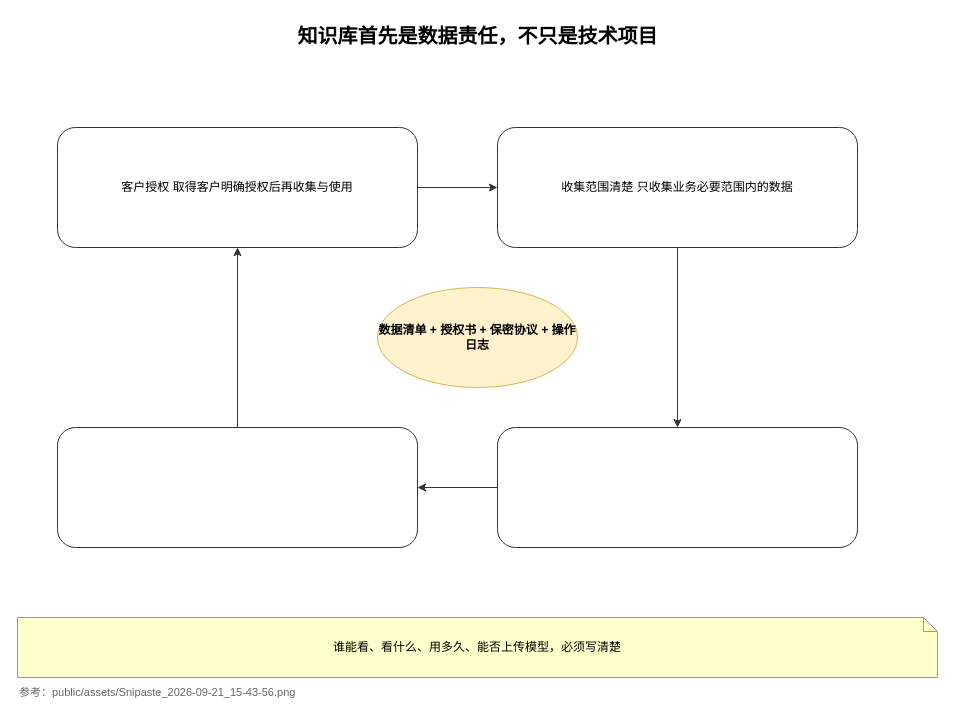
Image size: 955x718. Some labels were removed from this diagram. Each missing label, with the centre of its shape:
"全程保密留痕 访问与操作可追溯、可审计" belongs at point (677, 487).
"退出返还删除 项目结束按约定返还或删除" belongs at point (237, 487).
